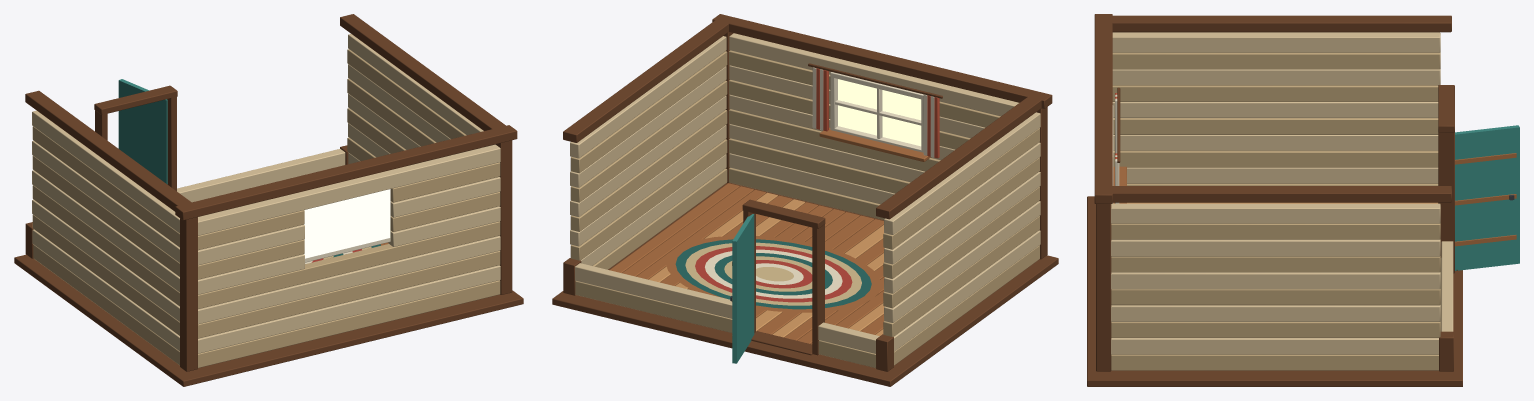
The model's file is Interior.fbx.
The picture shows the model from 3 angles, left to right: view 1: azimuth 30°, elevation 25°; view 2: azimuth 150°, elevation 25°; view 3: azimuth 270°, elevation 25°; orthographic projection. The views are drawn at different scales.
Visible parts, largest first — view 1: Interior_Room_X, Interior_Door_X; view 2: Interior_Room_X, Interior_Door_X; view 3: Interior_Room_X, Interior_Door_X.
Boxes of the visible parts, box(x1,y1,x2,y2) form: Interior_Room_X: box(14, 14, 523, 386); Interior_Door_X: box(118, 79, 167, 184); Interior_Room_X: box(552, 14, 1058, 386); Interior_Door_X: box(730, 214, 754, 363); Interior_Room_X: box(1087, 14, 1462, 386); Interior_Door_X: box(1455, 125, 1519, 270).
Size of the model in its own units: 5.8 by 2.8 by 5.75.
